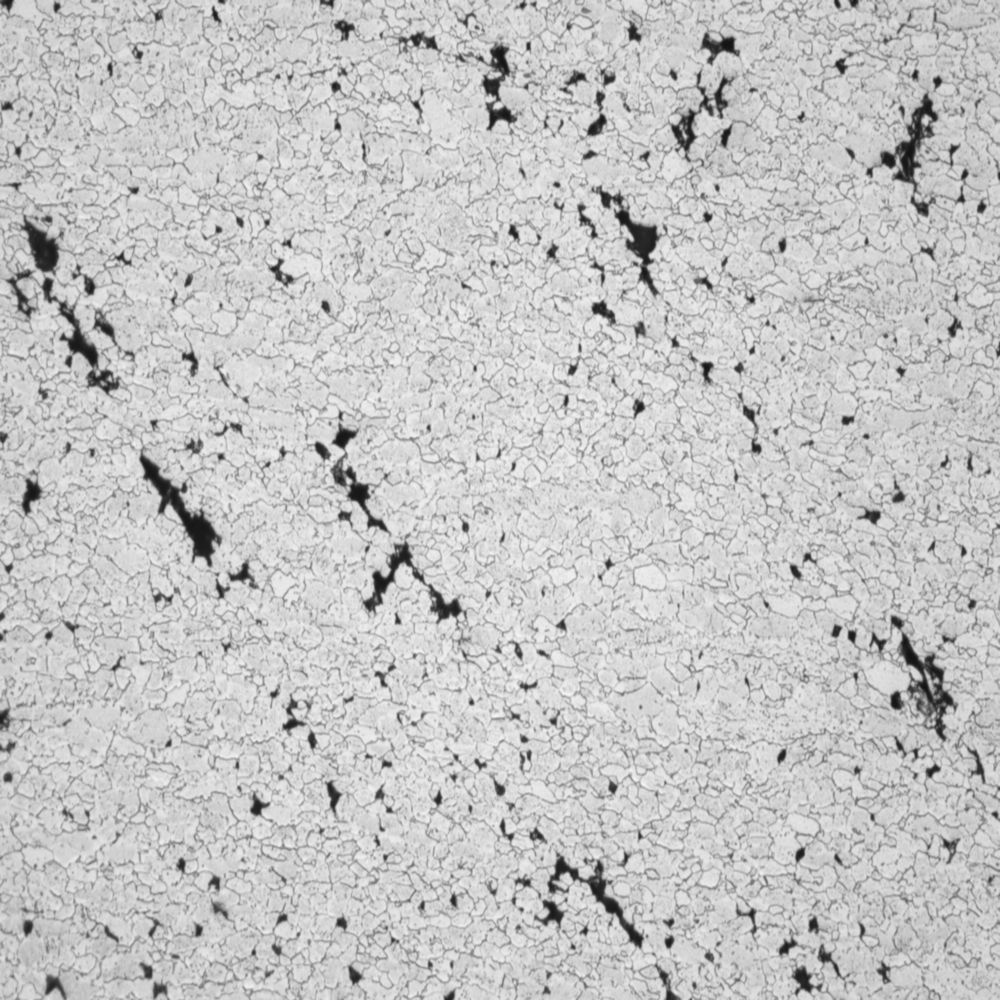crack: (301, 414, 483, 629), (509, 827, 697, 1000), (20, 225, 167, 412), (863, 604, 1000, 781), (134, 456, 275, 590), (564, 174, 684, 313), (863, 85, 965, 207)
